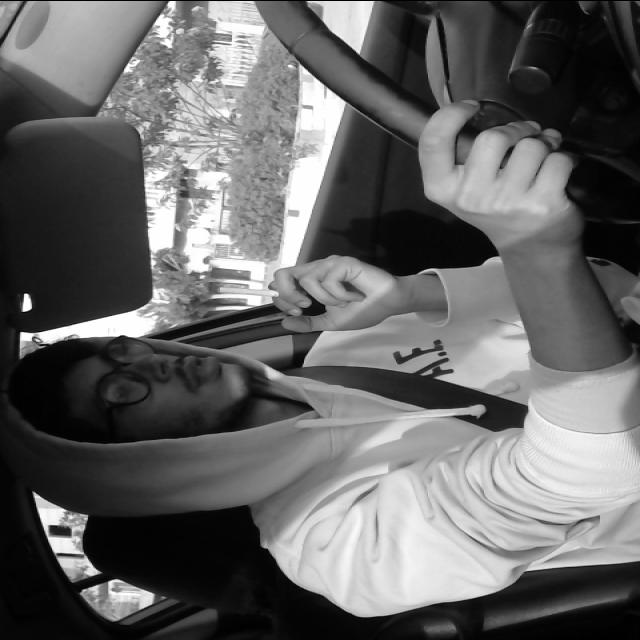smoking: (218, 281, 310, 298)
